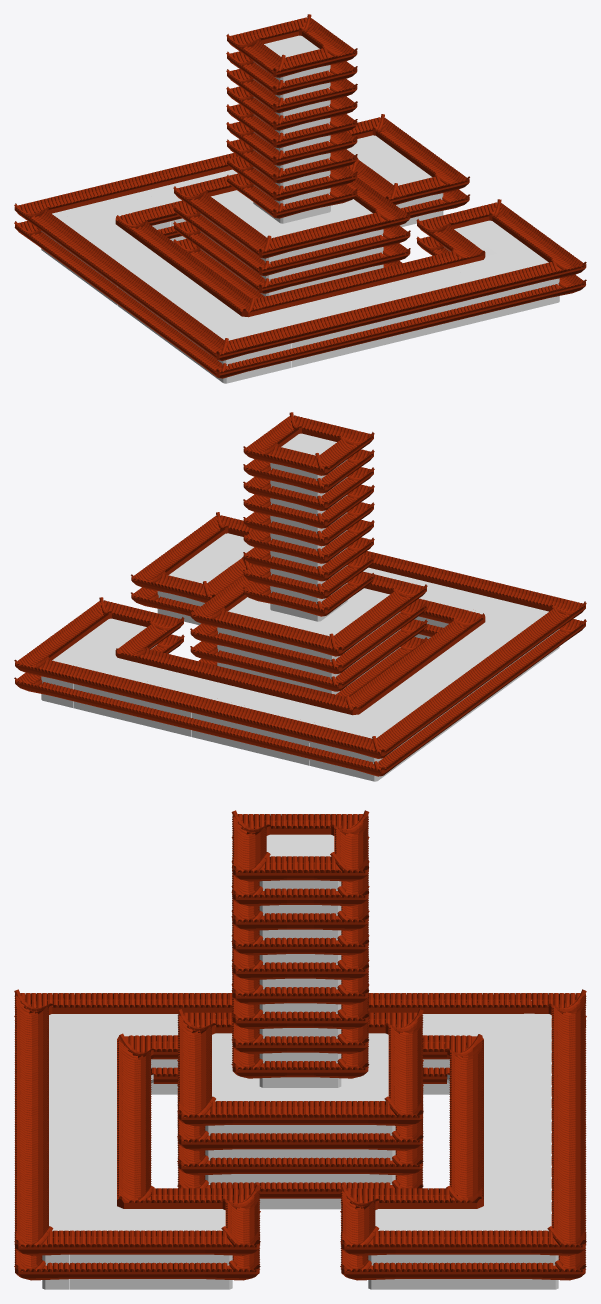
Rendered from charge.fbx.
The picture shows the model from 3 angles, top to bottom: view 1: azimuth 30°, elevation 25°; view 2: azimuth 150°, elevation 25°; view 3: azimuth 270°, elevation 25°; orthographic projection. The views are drawn at different scales.
Parts seen in each view (by area): view 1: Cube.004; view 2: Cube.004; view 3: Cube.004.
Boxes of the visible parts, bbox=[...] form: Cube.004: bbox=[14, 14, 586, 383]; Cube.004: bbox=[14, 412, 586, 781]; Cube.004: bbox=[14, 810, 586, 1289].
Bounding box in the file's own units: 2208 × 1344 × 2109.
